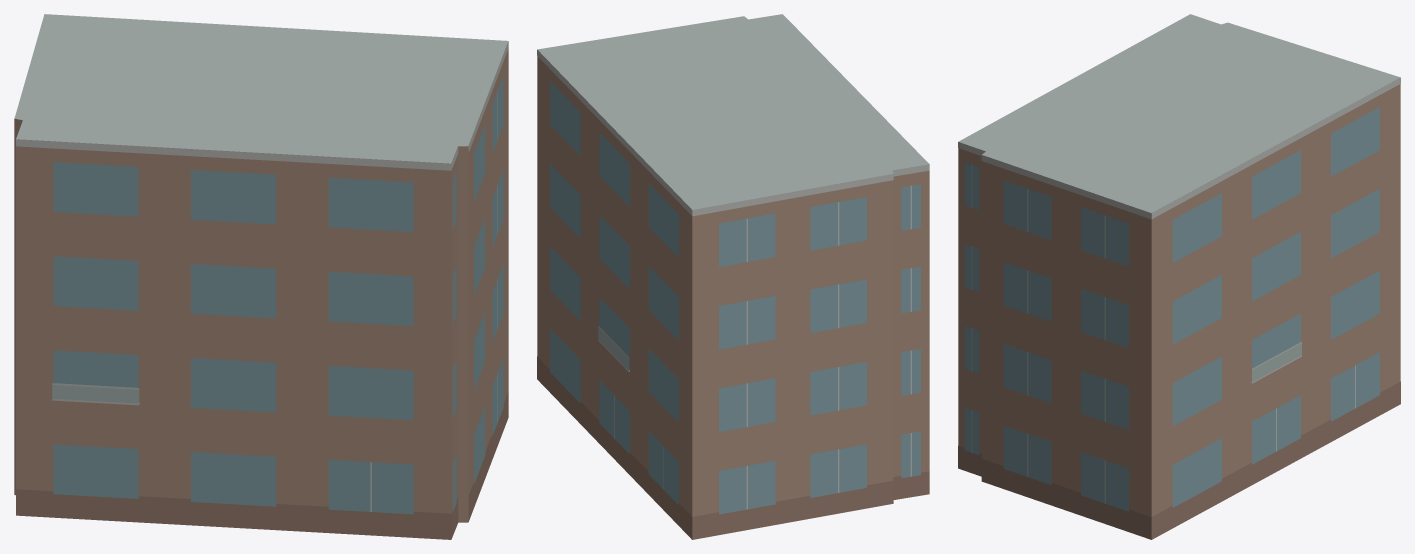
File: survey-upis-32641681.glb
3 renders of one model, left to right at view 1: azimuth 30°, elevation 25°; view 2: azimuth 150°, elevation 25°; view 3: azimuth 270°, elevation 25°, orthographic. The views are drawn at different scales.
Parts seen in each view (by area): view 1: survey-upis-32641681.tmp; view 2: survey-upis-32641681.tmp; view 3: survey-upis-32641681.tmp.
Part boxes in pixels (x1,y1,x2,y2): survey-upis-32641681.tmp: (14,14,508,539); survey-upis-32641681.tmp: (537,14,929,539); survey-upis-32641681.tmp: (958,14,1400,539).
Size of the model in its own units: 16.75 by 12.8 by 15.73.
